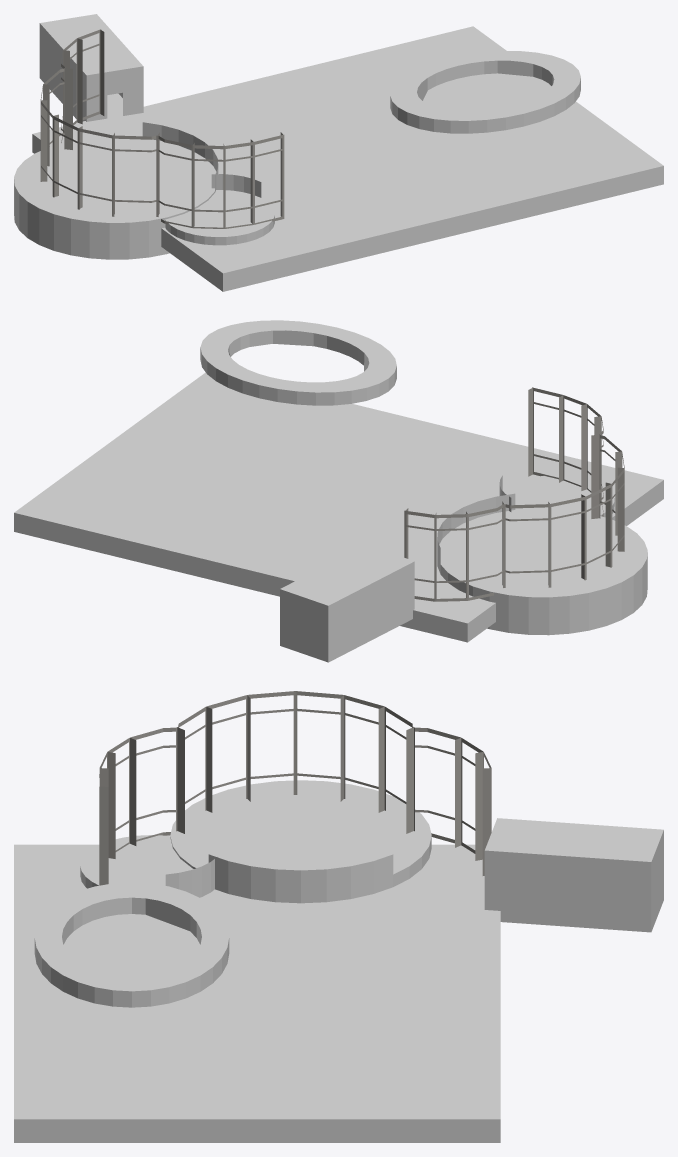
3 renders of one model, top to bottom at view 1: azimuth 30°, elevation 25°; view 2: azimuth 150°, elevation 25°; view 3: azimuth 270°, elevation 25°, orthographic. The views are drawn at different scales.
Parts seen in each view (by area): view 1: Cube.001, Cylinder, Cylinder.004, Cylinder.038, Cube, Cylinder.001, Cylinder.002, Cylinder.003; view 2: Cube.001, Cylinder, Cube, Cylinder.004, Cylinder.038, Cylinder.001, Cylinder.002; view 3: Cube.001, Cylinder, Cube, Cylinder.038, Cylinder.004, Cylinder.002, Cylinder.001, Cylinder.003.
Boxes of the visible parts, x1,y1,x2,y2 form: Cube.001: (32, 26, 663, 291); Cylinder: (14, 137, 216, 259); Cylinder.004: (390, 50, 580, 133); Cylinder.038: (40, 29, 284, 228); Cube: (39, 14, 143, 121); Cylinder.001: (165, 190, 274, 245); Cylinder.002: (142, 122, 218, 191); Cylinder.003: (211, 174, 261, 197); Cube.001: (14, 372, 663, 642); Cylinder: (437, 508, 647, 635); Cube: (280, 544, 414, 662); Cylinder.004: (200, 320, 396, 405); Cylinder.038: (404, 387, 624, 601); Cylinder.001: (503, 475, 614, 517); Cylinder.002: (437, 493, 515, 563); Cube.001: (14, 844, 500, 1142); Cylinder: (170, 780, 431, 903); Cube: (484, 818, 663, 932); Cylinder.038: (99, 691, 491, 885); Cylinder.004: (34, 882, 229, 1007); Cylinder.002: (208, 854, 393, 896); Cylinder.001: (80, 835, 214, 897); Cylinder.003: (165, 857, 217, 892).
Size of the model in its own units: 37994 by 8182 by 31976.
